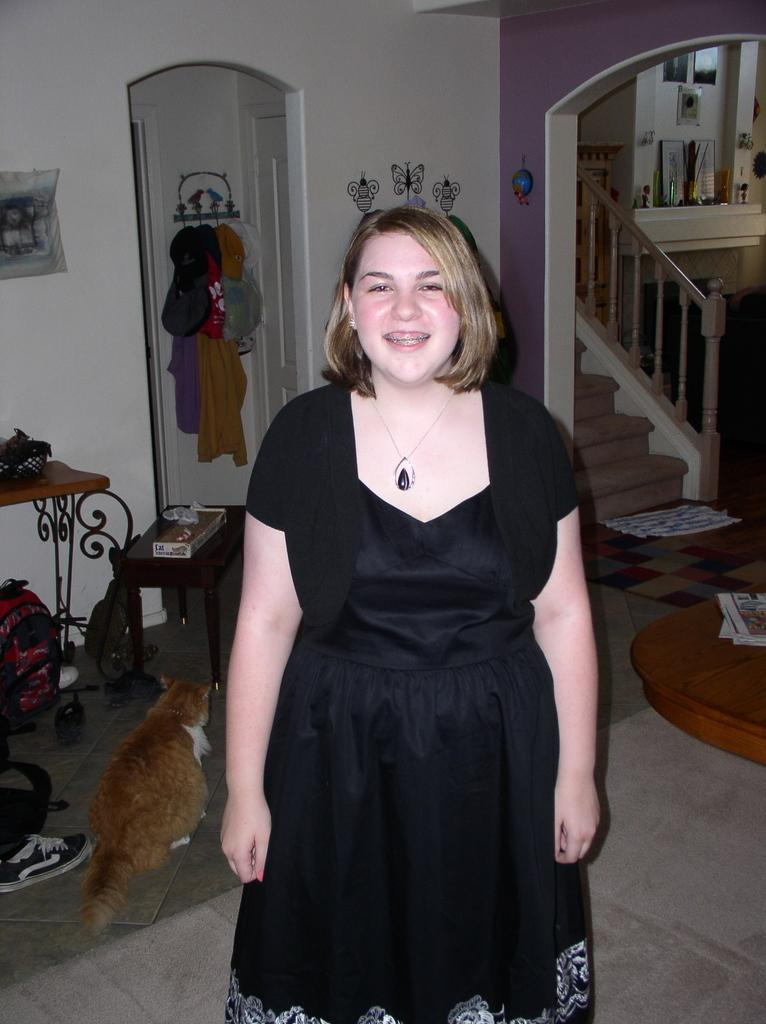Book: (151, 506, 226, 559)
